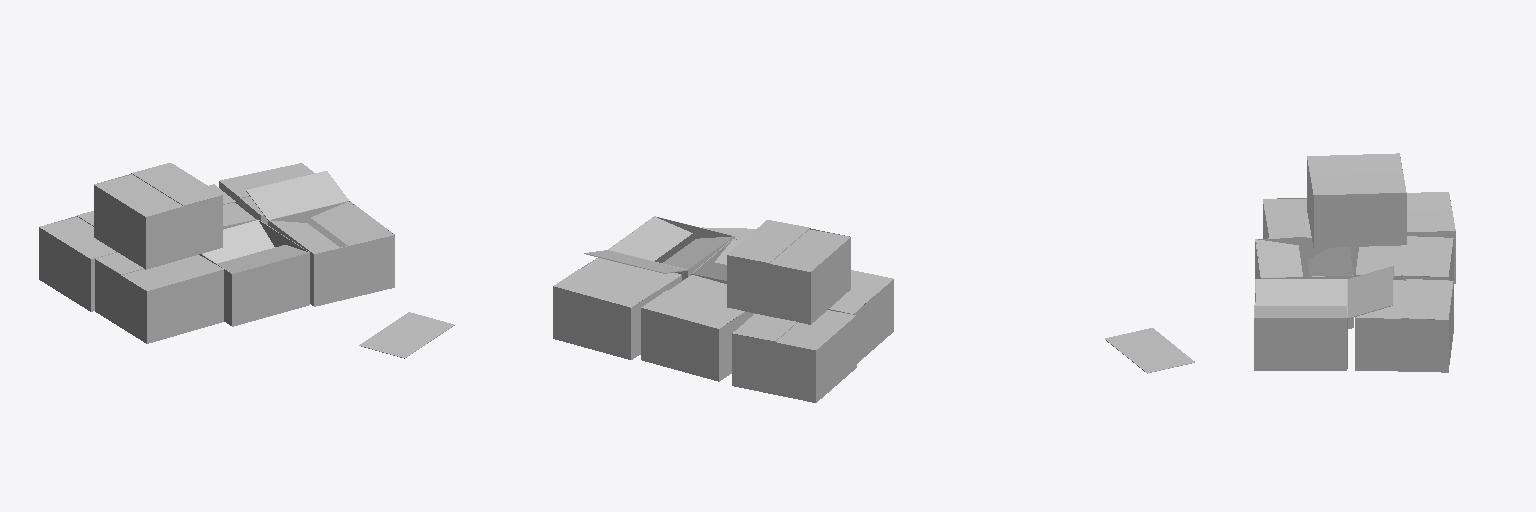
File: Joined_box_c.obj
3 views of the same model, side by side, from view 1: azimuth 30°, elevation 25°; view 2: azimuth 150°, elevation 25°; view 3: azimuth 270°, elevation 25° (orthographic).
Visible parts, largest first — view 1: Joined_Box_c_LOD0_Cube.016; view 2: Joined_Box_c_LOD0_Cube.016; view 3: Joined_Box_c_LOD0_Cube.016.
Part boxes in pixels (left/top/right/bottom): Joined_Box_c_LOD0_Cube.016: left=39, top=163, right=454, bottom=358; Joined_Box_c_LOD0_Cube.016: left=553, top=216, right=893, bottom=402; Joined_Box_c_LOD0_Cube.016: left=1105, top=153, right=1455, bottom=373.
Size of the model in its own units: 2.18 by 0.8368 by 2.5.